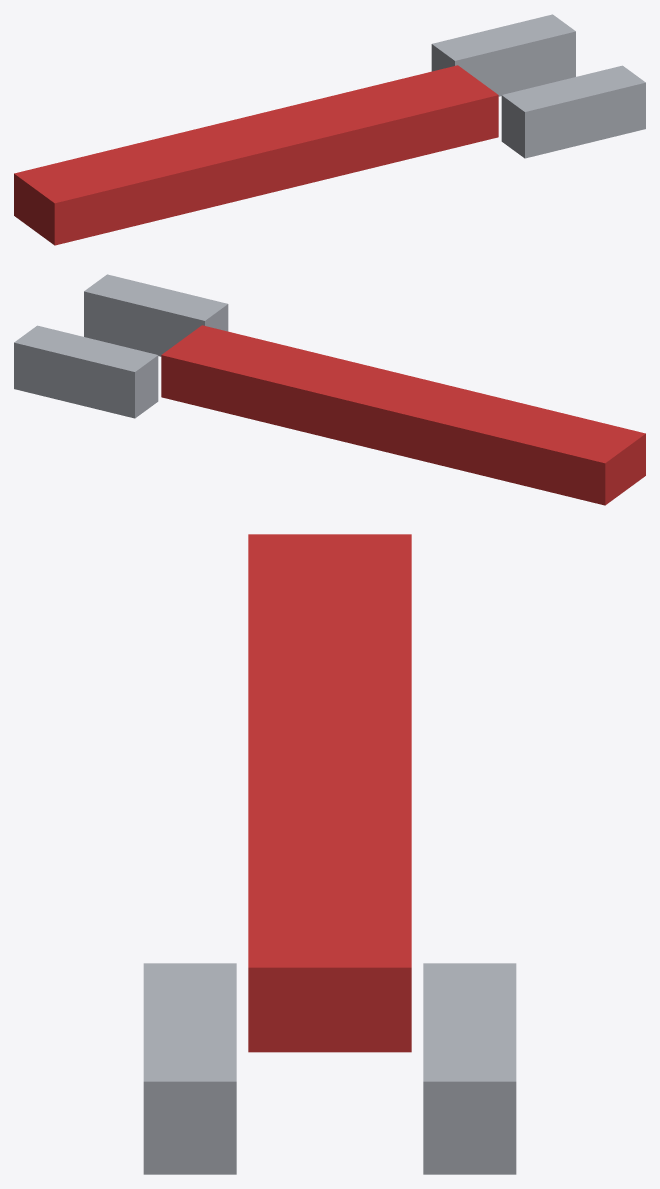
The model's file is garage_adjustable_wrench.glb.
The picture shows the model from 3 angles, top to bottom: view 1: azimuth 30°, elevation 25°; view 2: azimuth 150°, elevation 25°; view 3: azimuth 270°, elevation 25°; orthographic projection. The views are drawn at different scales.
Visible parts, largest first — view 1: handle_wrench_red, jaw_tool_chrome (×2); view 2: handle_wrench_red, jaw_tool_chrome (×2); view 3: handle_wrench_red, jaw_tool_chrome (×2).
Boxes of the visible parts, x1,y1,x2,y2 form: handle_wrench_red: [14, 65, 498, 245]; jaw_tool_chrome (×2): [431, 14, 645, 158]; handle_wrench_red: [161, 325, 645, 505]; jaw_tool_chrome (×2): [14, 274, 228, 418]; handle_wrench_red: [248, 534, 411, 1052]; jaw_tool_chrome (×2): [143, 963, 516, 1174].
Size of the model in its own units: 0.28 by 0.022 by 0.08.
